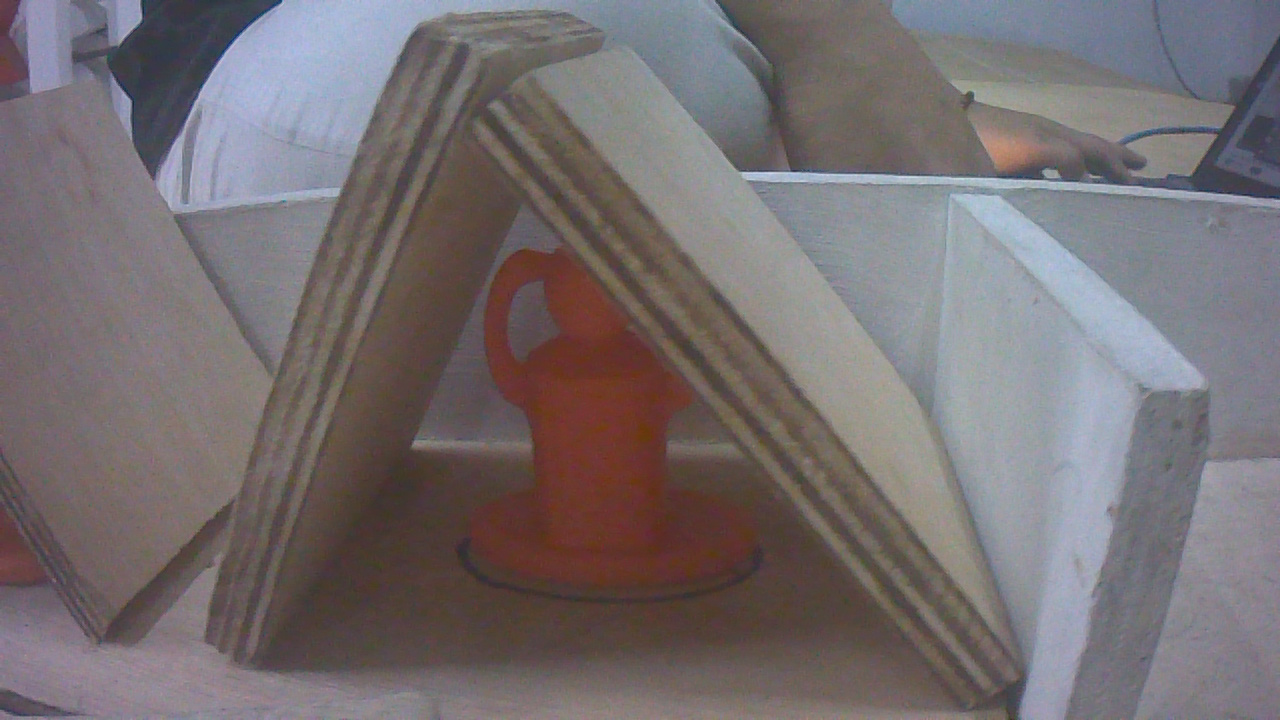real: (475, 230, 755, 602)
